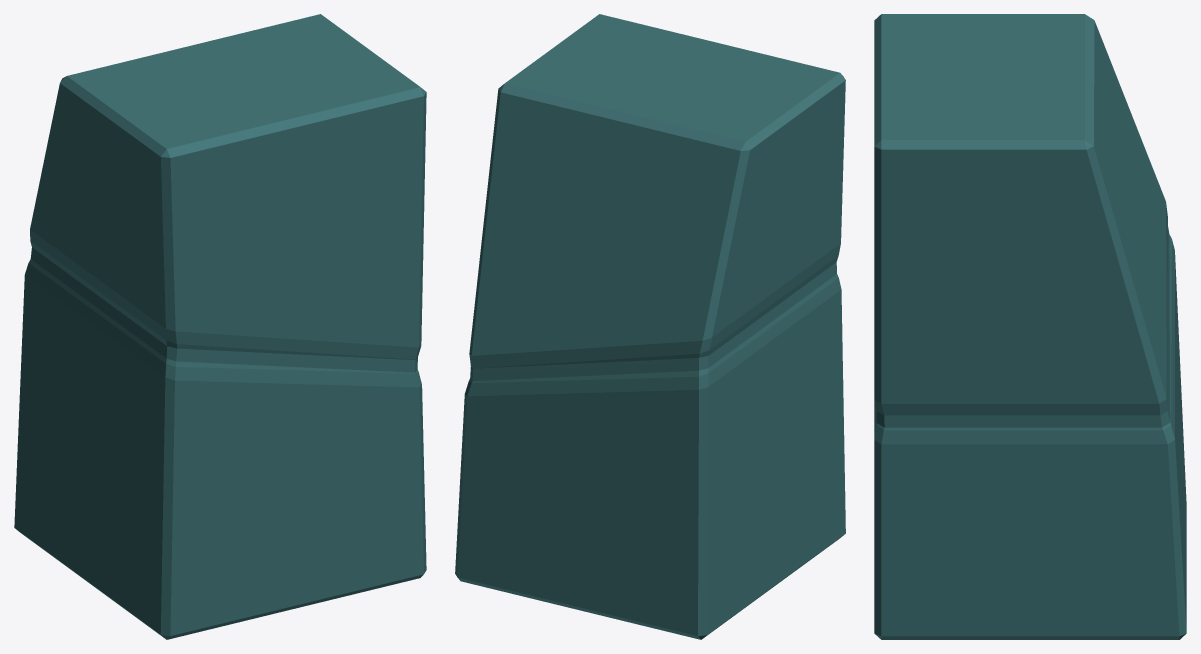
File: Swamp_Stone_3.fbx
3 views of the same model, side by side, from view 1: azimuth 30°, elevation 25°; view 2: azimuth 150°, elevation 25°; view 3: azimuth 270°, elevation 25° (orthographic). The views are drawn at different scales.
Parts seen in each view (by area): view 1: Swamp Stone 3; view 2: Swamp Stone 3; view 3: Swamp Stone 3.
Part boxes in pixels (<box>): Swamp Stone 3: <box>14,14,426,639</box>; Swamp Stone 3: <box>455,14,845,639</box>; Swamp Stone 3: <box>874,14,1186,639</box>.
Bounding box in the file's own units: 114 × 202 × 114.
